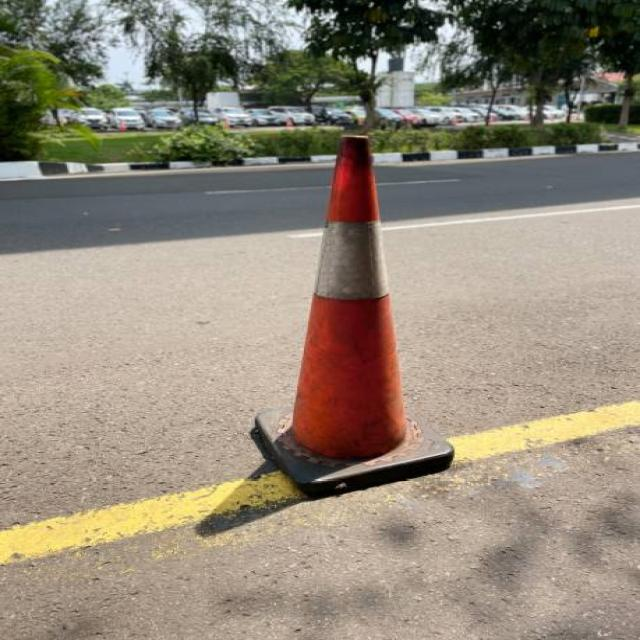Traffic Cone: (209, 122, 470, 516)
